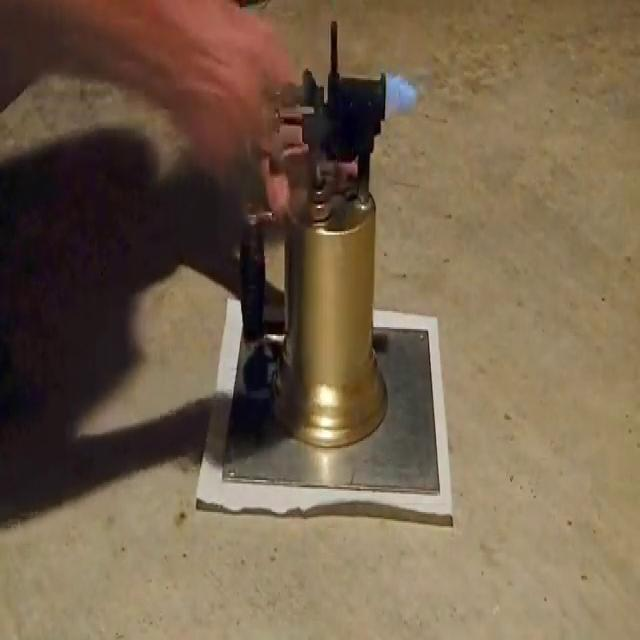fire: (371, 63, 433, 128)
